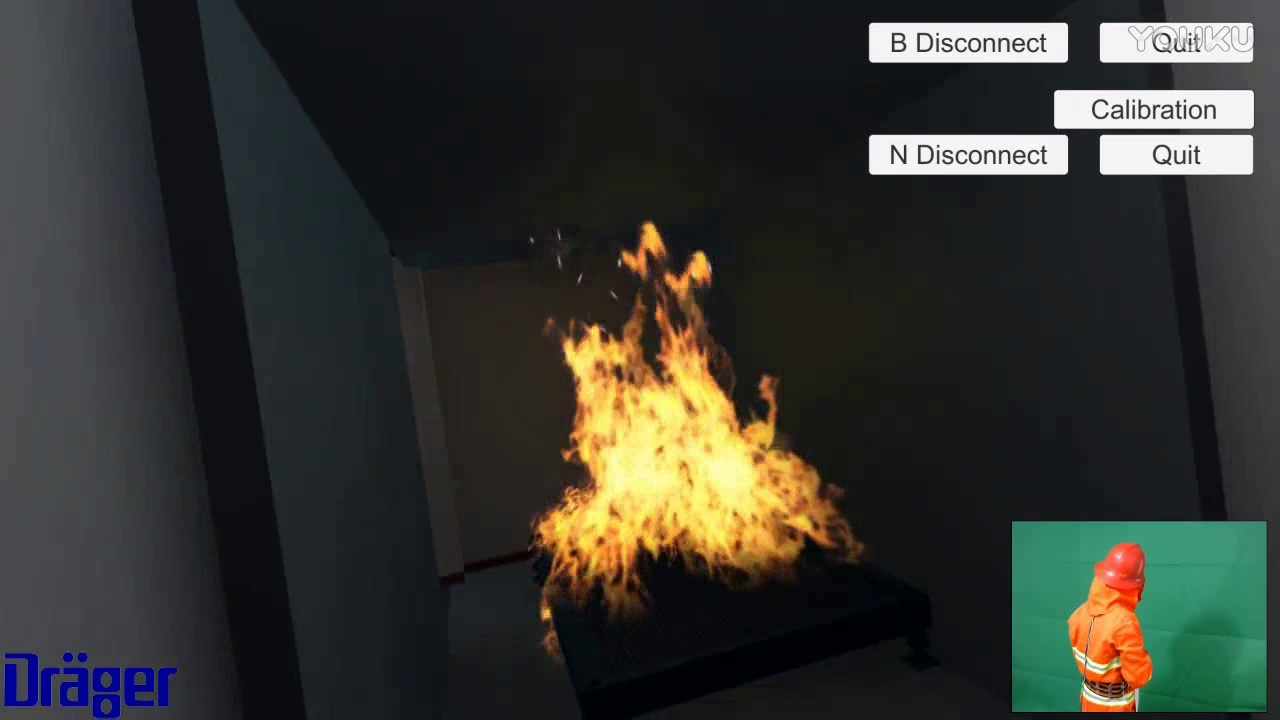fire: (520, 215, 866, 626)
